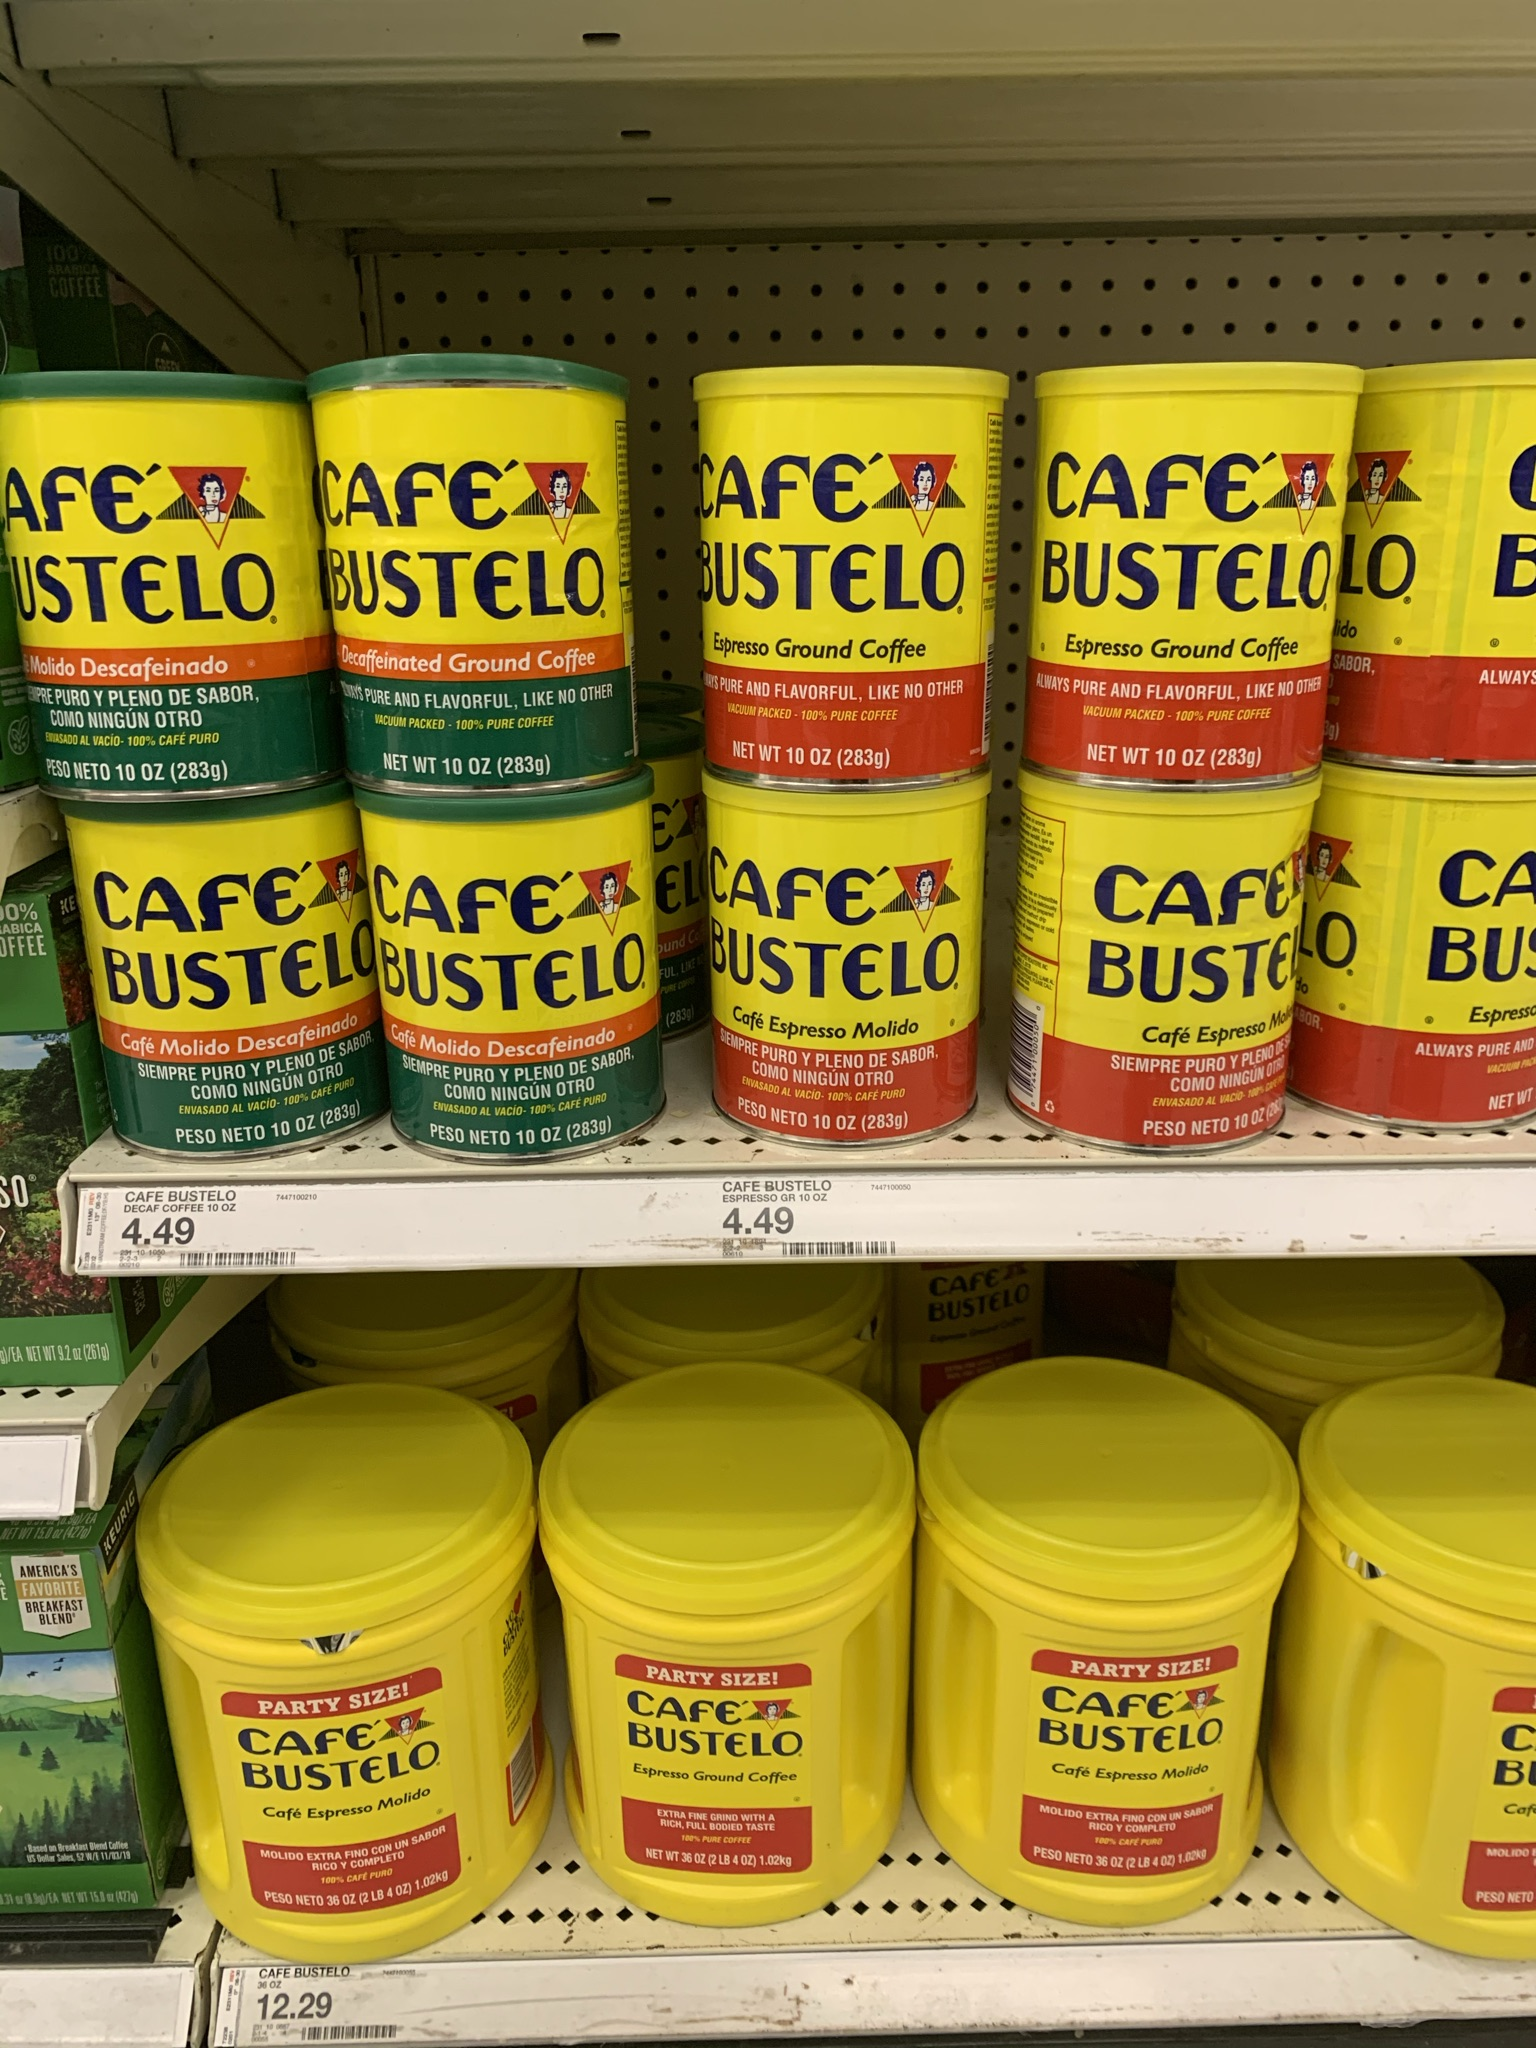can: (1034, 361, 1347, 780), (694, 363, 1005, 780), (337, 369, 613, 779), (32, 369, 292, 787), (1018, 784, 1297, 1132), (387, 797, 662, 1138), (712, 785, 987, 1118), (86, 826, 347, 1127), (1317, 769, 1536, 1127)
